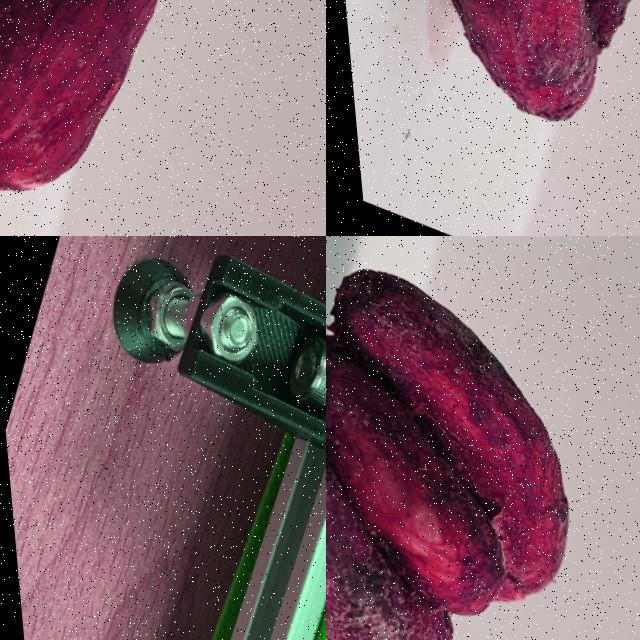Agglomerated_cocoabeans: (326, 236, 639, 639), (326, 0, 639, 222), (0, 0, 282, 235)
